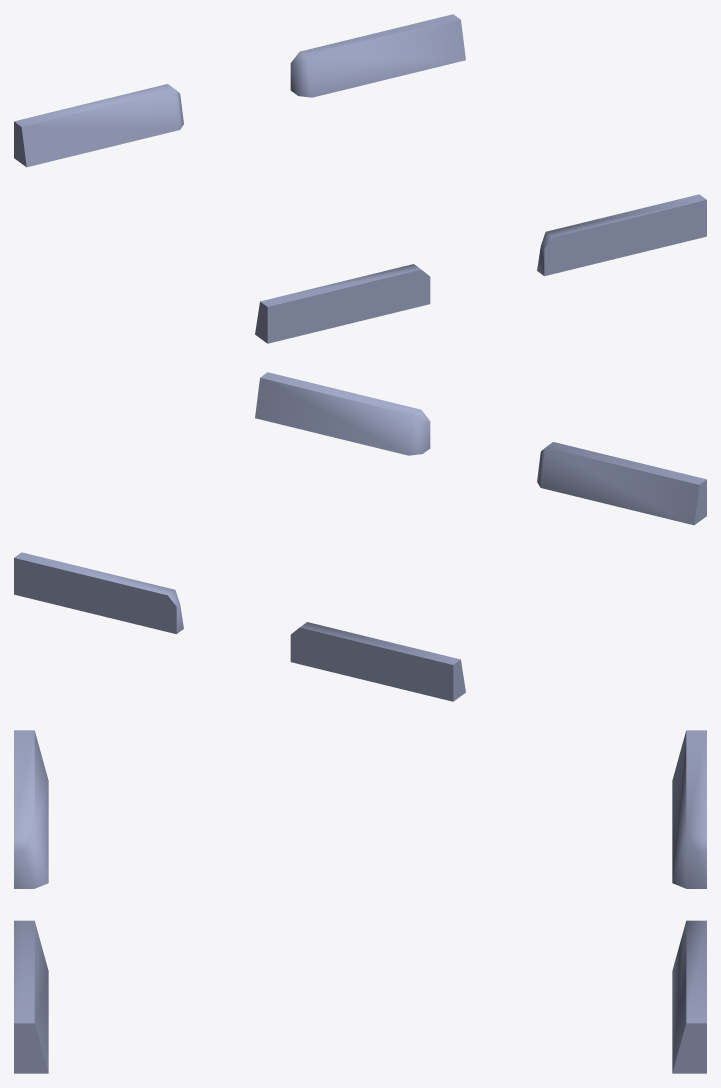
Rendered from road-driveway-double-barrier.glb.
3 renders of one model, top to bottom at view 1: azimuth 30°, elevation 25°; view 2: azimuth 150°, elevation 25°; view 3: azimuth 270°, elevation 25°, orthographic. The views are drawn at different scales.
Parts seen in each view (by area): view 1: road-driveway-double-barrier; view 2: road-driveway-double-barrier; view 3: road-driveway-double-barrier.
Part boxes in pixels (box(x1,y1,x2,y2)): road-driveway-double-barrier: box(14, 14, 706, 343); road-driveway-double-barrier: box(14, 372, 706, 701); road-driveway-double-barrier: box(14, 730, 706, 1073).
Size of the model in its own units: 1 by 0.08 by 1.
1 material, 1 textured.
